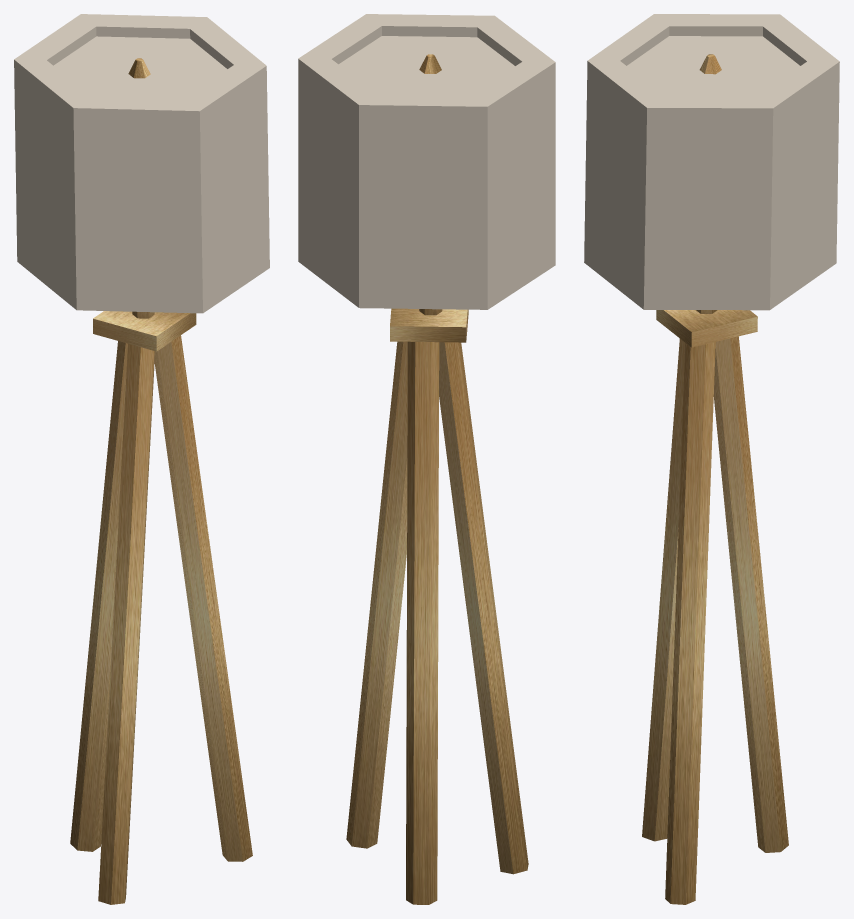
Rendered from lamp.obj.
3 views of the same model, side by side, from view 1: azimuth 30°, elevation 25°; view 2: azimuth 150°, elevation 25°; view 3: azimuth 270°, elevation 25° (orthographic).
Parts seen in each view (by area): view 1: Cylinder.001; view 2: Cylinder.001; view 3: Cylinder.001.
Part boxes in pixels (bbox=[...]): Cylinder.001: bbox=[14, 14, 269, 904]; Cylinder.001: bbox=[298, 14, 555, 904]; Cylinder.001: bbox=[584, 14, 839, 904].
Bounding box in the file's own units: 1.4 × 5.53 × 1.59.
1 material, 1 textured.
